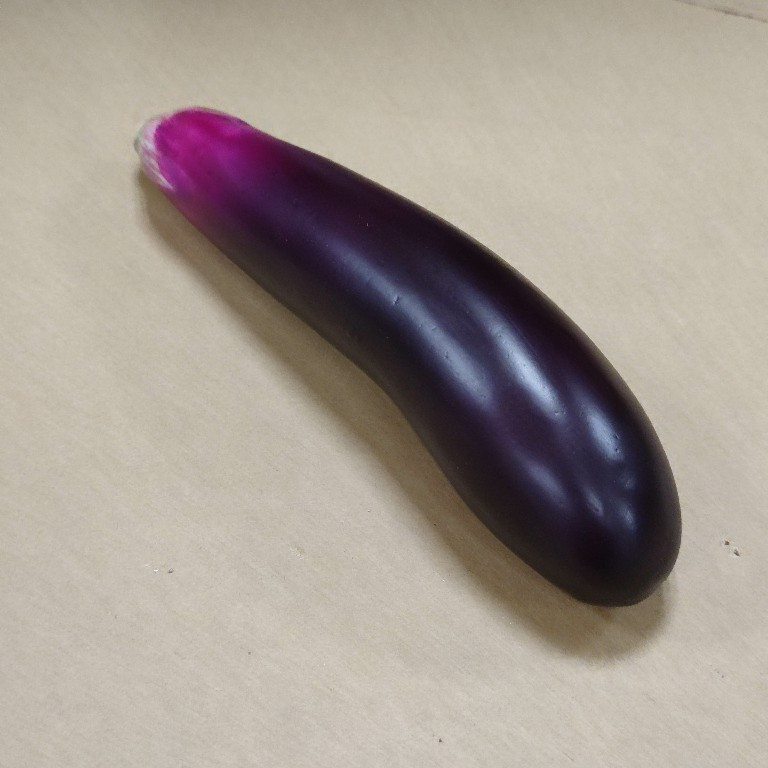fruit_eggplant: (128, 101, 689, 613)
